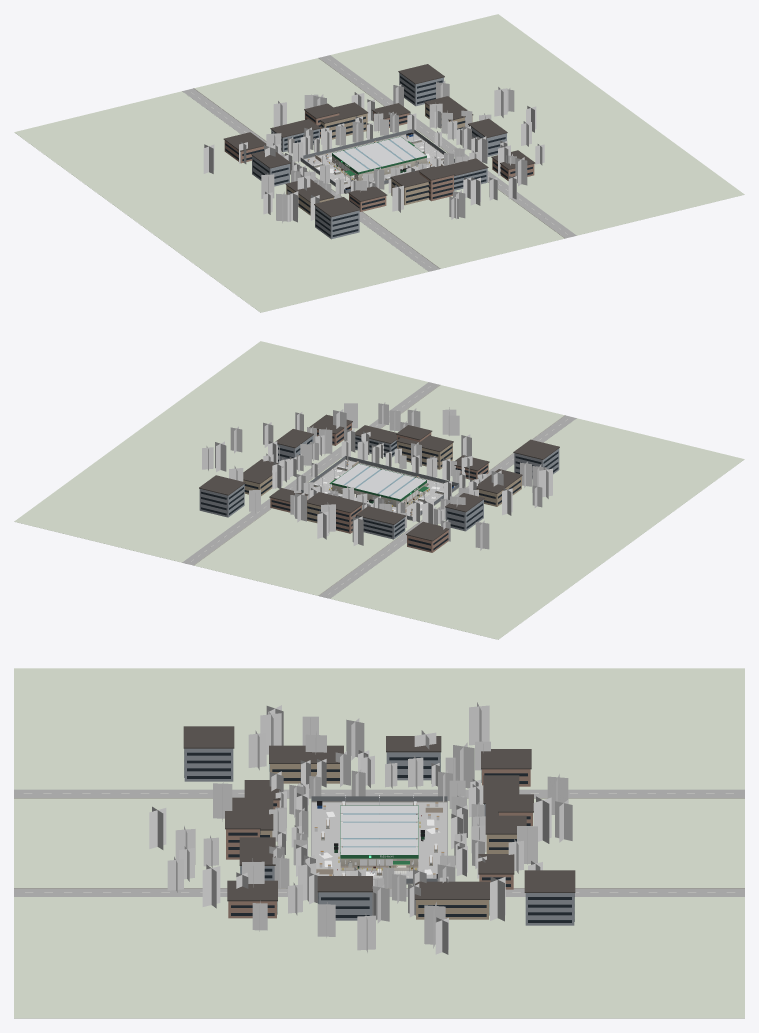
Rendered from mart.glb.
3 views of the same model, one above another, from view 1: azimuth 30°, elevation 25°; view 2: azimuth 150°, elevation 25°; view 3: azimuth 270°, elevation 25° (orthographic). The views are drawn at different scales.
Visible parts, largest first — view 1: v_grass:verge, card:tree, flat:far building roof, asphalt:road, flat:far building b, flat:far building glass, metal:roof deck, flat:far building c, flat:far building a, asphalt:car park, flat:kerb, metal:fence; view 2: v_grass:verge, card:tree, flat:far building roof, asphalt:road, flat:far building b, flat:far building glass, metal:roof deck, flat:far building c, flat:far building a, asphalt:car park, flat:kerb, metal:fence; view 3: v_grass:verge, card:tree, flat:far building roof, asphalt:road, flat:far building b, asphalt:car park, metal:roof deck, flat:far building glass, flat:far building a, flat:far building c, flat:kerb, metal:fence (+1 smaller).
Boxes of the visible parts, x1,y1,x2,y2 form: v_grass:verge: [14, 14, 744, 312]; card:tree: [203, 80, 544, 223]; flat:far building roof: [223, 64, 535, 217]; asphalt:road: [182, 55, 576, 271]; flat:far building b: [252, 73, 506, 239]; flat:far building glass: [225, 76, 532, 236]; metal:roof deck: [333, 136, 426, 172]; flat:far building c: [224, 111, 534, 211]; flat:far building a: [286, 103, 472, 215]; asphalt:car park: [304, 134, 454, 189]; flat:kerb: [193, 57, 565, 268]; metal:fence: [300, 129, 454, 193]; v_grass:verge: [14, 341, 744, 639]; card:tree: [202, 402, 552, 550]; flat:far building roof: [199, 414, 559, 541]; asphalt:road: [182, 382, 576, 598]; flat:far building b: [199, 435, 559, 539]; flat:far building glass: [201, 426, 558, 550]; metal:roof deck: [332, 463, 425, 499]; flat:far building c: [270, 423, 488, 552]; flat:far building a: [243, 442, 521, 522]; asphalt:car park: [313, 460, 454, 516]; flat:kerb: [193, 384, 565, 595]; metal:fence: [301, 455, 459, 520]; v_grass:verge: [14, 668, 744, 1018]; card:tree: [149, 702, 572, 954]; flat:far building roof: [183, 726, 575, 901]; asphalt:road: [14, 789, 744, 896]; flat:far building b: [184, 748, 574, 925]; asphalt:car park: [311, 802, 447, 878]; metal:roof deck: [340, 805, 418, 854]; flat:far building glass: [184, 749, 574, 922]; flat:far building a: [260, 764, 516, 919]; flat:far building c: [226, 769, 532, 918]; flat:kerb: [14, 798, 744, 888]; metal:fence: [311, 796, 447, 883].
Size of the model in its own units: 340 by 18.76 by 300.
Materials: 142 (60 with a texture image).
